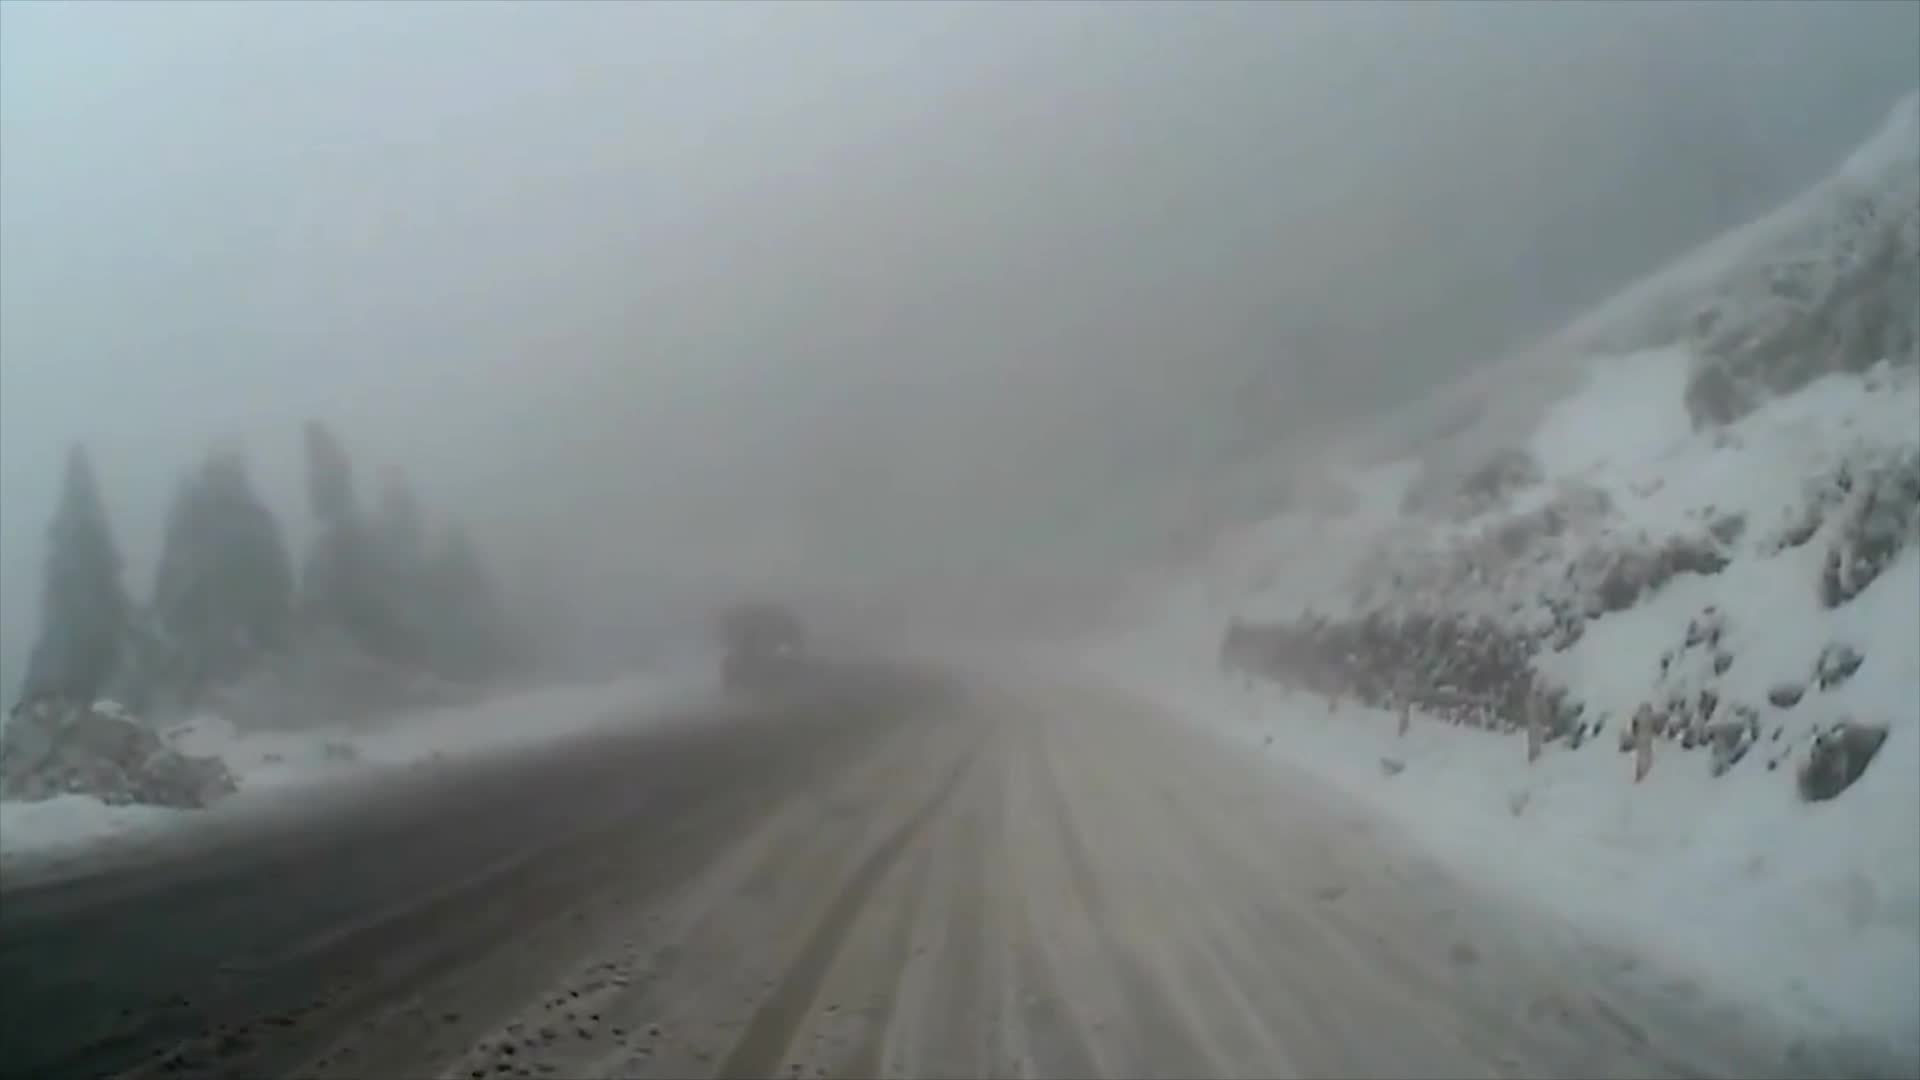vehicle: (715, 603, 810, 695)
